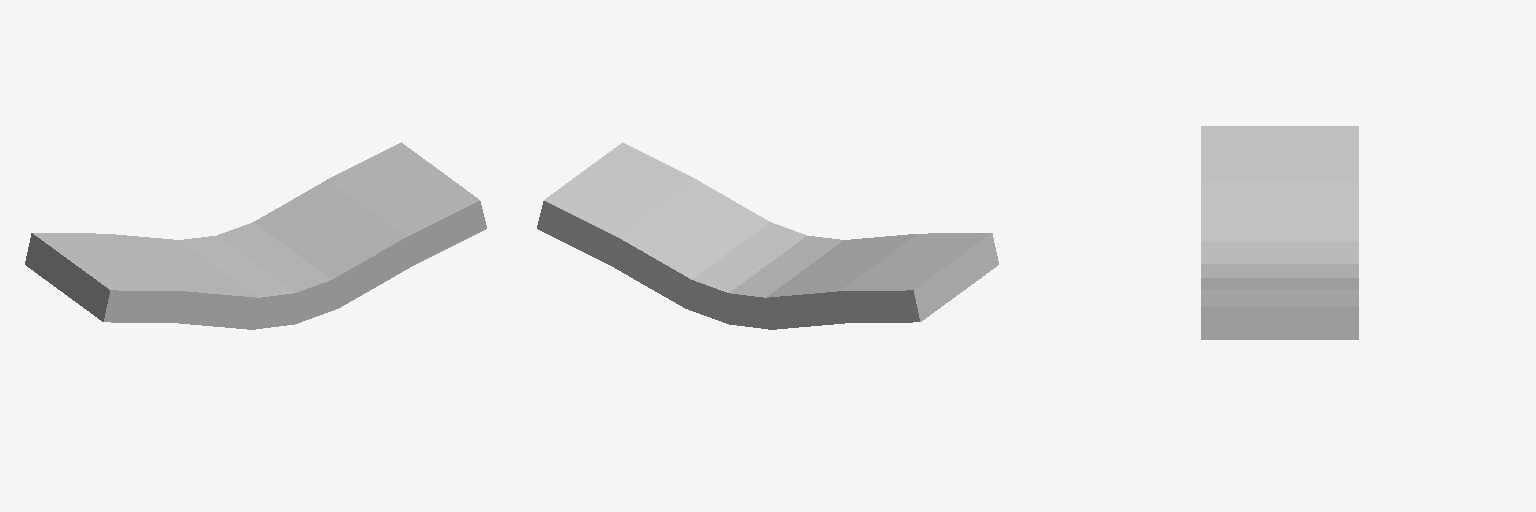
The model's file is testFloor.obj.
3 views of the same model, side by side, from view 1: azimuth 30°, elevation 25°; view 2: azimuth 150°, elevation 25°; view 3: azimuth 270°, elevation 25° (orthographic).
Parts seen in each view (by area): view 1: Plane; view 2: Plane; view 3: Plane.
Boxes of the visible parts, x1=… form: Plane: x1=25, y1=142, x2=486, y2=329; Plane: x1=537, y1=142, x2=998, y2=329; Plane: x1=1201, y1=126, x2=1358, y2=339.
Size of the model in its own units: 9.87 by 1.94 by 3.51.